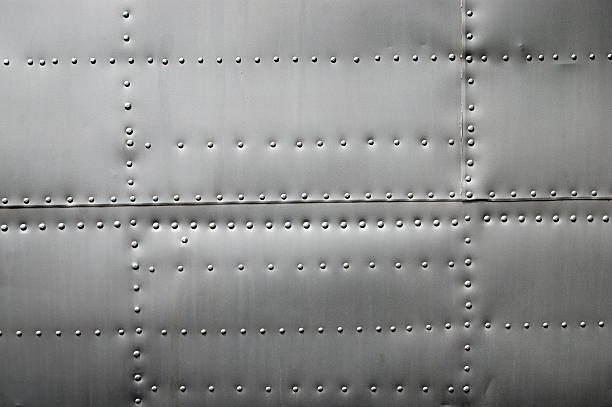rivet: (126, 127, 136, 137), (131, 261, 141, 270), (234, 56, 243, 65), (444, 321, 453, 330), (601, 215, 610, 224), (464, 258, 473, 267), (432, 219, 441, 228), (395, 220, 404, 229), (376, 220, 385, 229), (339, 221, 348, 230), (284, 221, 293, 230), (265, 221, 274, 230), (245, 221, 254, 230), (189, 221, 198, 230), (152, 221, 161, 230), (113, 220, 122, 229), (96, 221, 105, 230), (57, 222, 66, 231), (466, 159, 474, 168), (466, 32, 474, 41), (447, 54, 456, 62), (392, 55, 401, 63), (215, 57, 224, 65), (197, 57, 206, 65), (123, 11, 131, 20), (161, 59, 170, 67), (123, 80, 132, 88), (126, 139, 135, 147), (133, 283, 141, 292), (74, 330, 83, 338), (135, 327, 144, 335), (369, 384, 378, 392), (462, 384, 471, 392), (560, 320, 568, 329), (465, 301, 473, 310), (551, 216, 560, 224), (482, 215, 491, 223), (464, 279, 472, 288), (414, 219, 422, 228), (358, 220, 366, 229), (321, 221, 329, 230), (303, 221, 311, 230), (208, 222, 217, 230), (171, 222, 180, 230), (131, 241, 140, 249), (77, 221, 85, 230), (66, 196, 75, 204), (1, 224, 9, 233), (587, 214, 594, 224), (367, 138, 375, 146), (467, 139, 475, 147), (467, 125, 475, 133), (467, 78, 475, 86), (466, 56, 474, 64), (430, 54, 438, 62), (411, 55, 419, 63), (373, 55, 381, 63), (353, 56, 361, 64), (329, 57, 337, 65), (310, 56, 318, 64), (292, 56, 300, 64), (272, 55, 280, 63), (253, 57, 261, 65), (39, 59, 47, 67), (90, 57, 98, 65), (125, 103, 133, 111), (56, 329, 64, 337), (220, 328, 228, 336), (201, 327, 209, 335), (135, 373, 143, 381), (422, 385, 430, 393), (518, 216, 526, 224), (464, 237, 472, 245), (465, 191, 473, 199), (464, 175, 472, 183), (427, 191, 435, 199), (320, 262, 328, 270), (300, 192, 308, 200), (228, 222, 236, 230), (130, 219, 138, 227), (20, 223, 28, 231), (39, 223, 47, 231), (2, 197, 10, 205), (108, 59, 117, 66), (374, 325, 383, 332), (335, 326, 344, 333), (239, 328, 248, 335), (501, 215, 508, 224), (176, 266, 185, 273), (177, 142, 185, 149), (207, 141, 214, 149), (237, 142, 245, 149), (270, 141, 277, 149), (316, 141, 324, 148), (393, 139, 401, 146), (588, 54, 596, 61), (551, 54, 559, 61), (526, 54, 533, 62), (448, 138, 455, 146), (179, 58, 186, 66), (3, 60, 11, 67), (28, 59, 35, 67), (52, 59, 60, 66), (72, 58, 79, 66), (147, 58, 155, 65), (124, 35, 131, 43), (145, 142, 153, 149), (16, 330, 24, 337), (406, 325, 414, 332), (389, 325, 397, 332), (356, 326, 364, 333), (298, 327, 306, 334), (278, 327, 286, 334), (94, 329, 102, 336), (133, 350, 141, 357), (236, 385, 244, 392), (265, 386, 273, 393), (292, 386, 300, 393), (317, 385, 325, 392), (341, 386, 349, 393), (396, 385, 404, 392), (448, 386, 456, 393), (579, 321, 587, 328), (504, 322, 512, 329), (484, 322, 492, 329), (425, 324, 433, 331), (590, 191, 598, 198), (570, 215, 577, 223), (535, 215, 542, 223), (451, 219, 459, 226), (448, 260, 455, 268), (422, 261, 429, 269), (365, 191, 372, 199), (369, 262, 377, 269), (343, 261, 350, 269), (344, 192, 351, 200), (323, 193, 331, 200), (296, 263, 304, 270), (280, 194, 288, 201), (238, 193, 245, 201), (216, 194, 224, 201), (195, 195, 203, 202), (172, 195, 180, 202), (152, 195, 160, 202), (181, 237, 189, 244), (148, 266, 156, 273), (127, 179, 135, 186), (129, 196, 137, 203), (110, 196, 118, 203), (89, 196, 96, 204), (24, 197, 31, 205), (296, 142, 303, 149), (340, 140, 347, 147), (571, 54, 578, 61), (538, 55, 545, 62), (481, 56, 488, 63), (421, 139, 428, 146), (468, 105, 475, 112), (466, 11, 473, 18), (128, 58, 135, 65), (127, 161, 134, 168), (317, 327, 324, 334), (259, 328, 266, 335), (181, 328, 188, 335), (134, 306, 141, 313), (118, 329, 125, 336), (136, 397, 143, 404), (151, 384, 158, 391), (463, 365, 470, 372), (542, 322, 549, 329), (464, 344, 471, 351), (464, 321, 471, 328), (571, 190, 578, 197), (550, 191, 557, 198), (530, 191, 537, 198), (510, 191, 517, 198), (489, 192, 496, 199), (395, 262, 402, 269), (207, 265, 214, 272), (238, 264, 245, 271), (259, 194, 266, 201), (45, 196, 52, 203), (606, 54, 612, 62), (501, 56, 509, 62), (36, 331, 44, 337), (161, 329, 169, 335), (597, 321, 605, 327), (524, 322, 530, 330), (449, 191, 455, 199), (385, 193, 393, 199), (180, 385, 187, 391), (208, 385, 215, 391), (465, 215, 471, 222), (408, 192, 414, 199), (268, 264, 275, 270)
